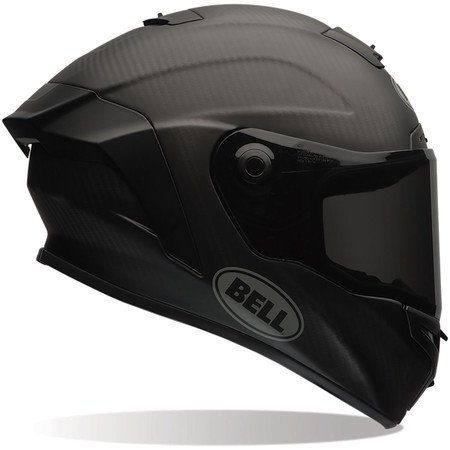helmet: (8, 7, 437, 374)
